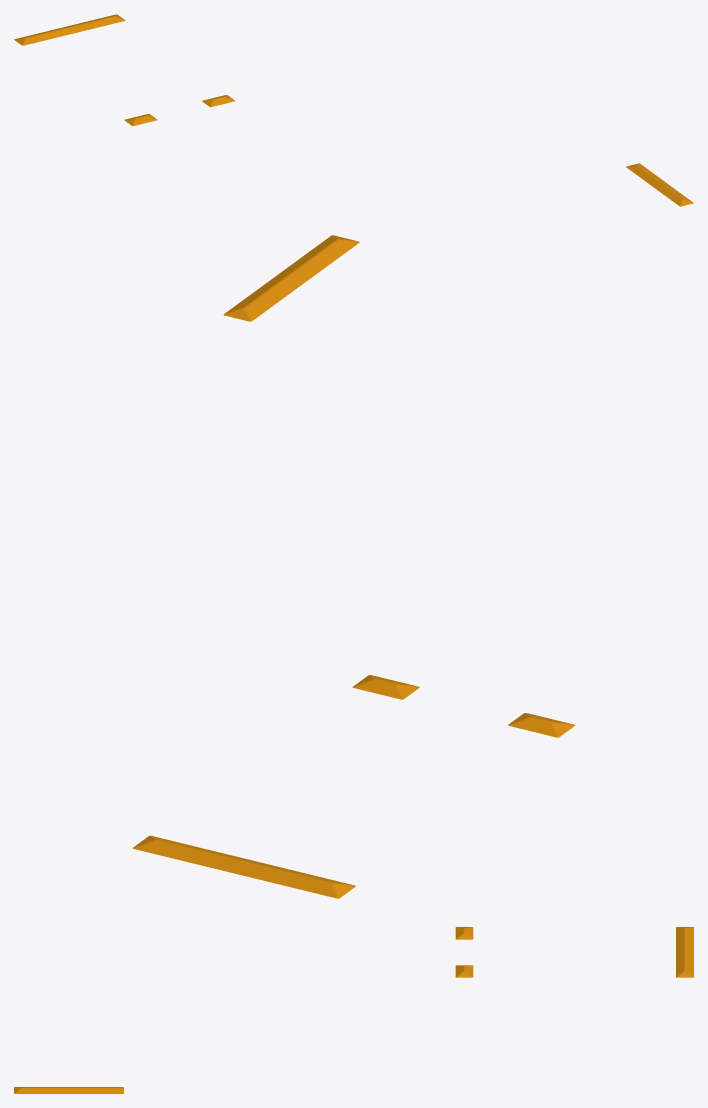
The model's file is Combined_ShadowCollisionPrefab.fbx.
3 views of the same model, one above another, from view 1: azimuth 30°, elevation 25°; view 2: azimuth 150°, elevation 25°; view 3: azimuth 270°, elevation 25° (orthographic). The views are drawn at different scales.
Parts seen in each view (by area): view 1: Combined_ShadowCollisionPrefab; view 2: Combined_ShadowCollisionPrefab; view 3: Combined_ShadowCollisionPrefab.
Part boxes in pixels (box(x1,y1,x2,y2)): Combined_ShadowCollisionPrefab: box(14, 14, 693, 206); Combined_ShadowCollisionPrefab: box(132, 235, 575, 898); Combined_ShadowCollisionPrefab: box(14, 927, 693, 1093).
Bounding box in the file's own units: 95.25 × 0.8613 × 163.
